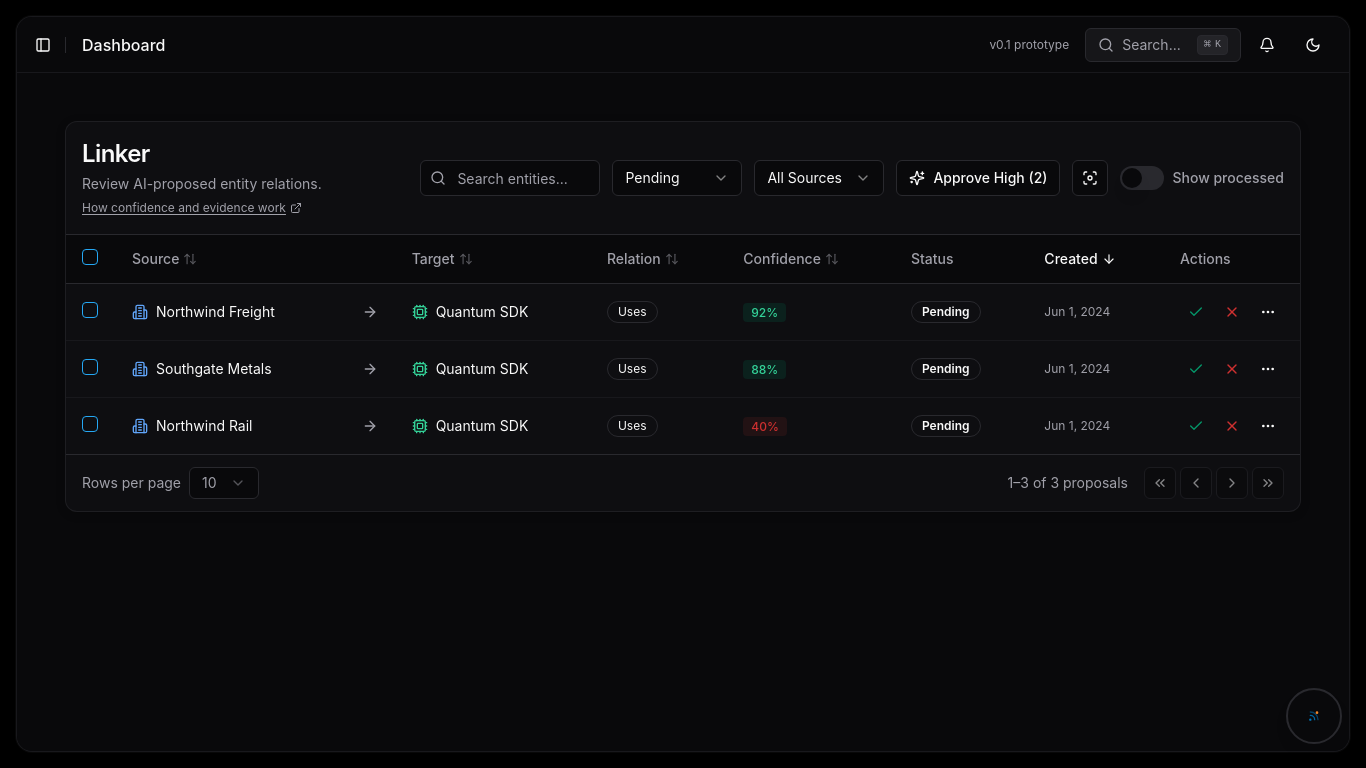
Test case: LinkerTriagePage — Approve High is bounded by the visible scope › states the active scope in the confirmation so it cannot overstate its reach
Expected: the button "Approve High (2)" is shown, [896,160,1060,196]
Type "Northwind" into the field with placeholder "Search entities..." at (510, 178), box [420,160,600,196]
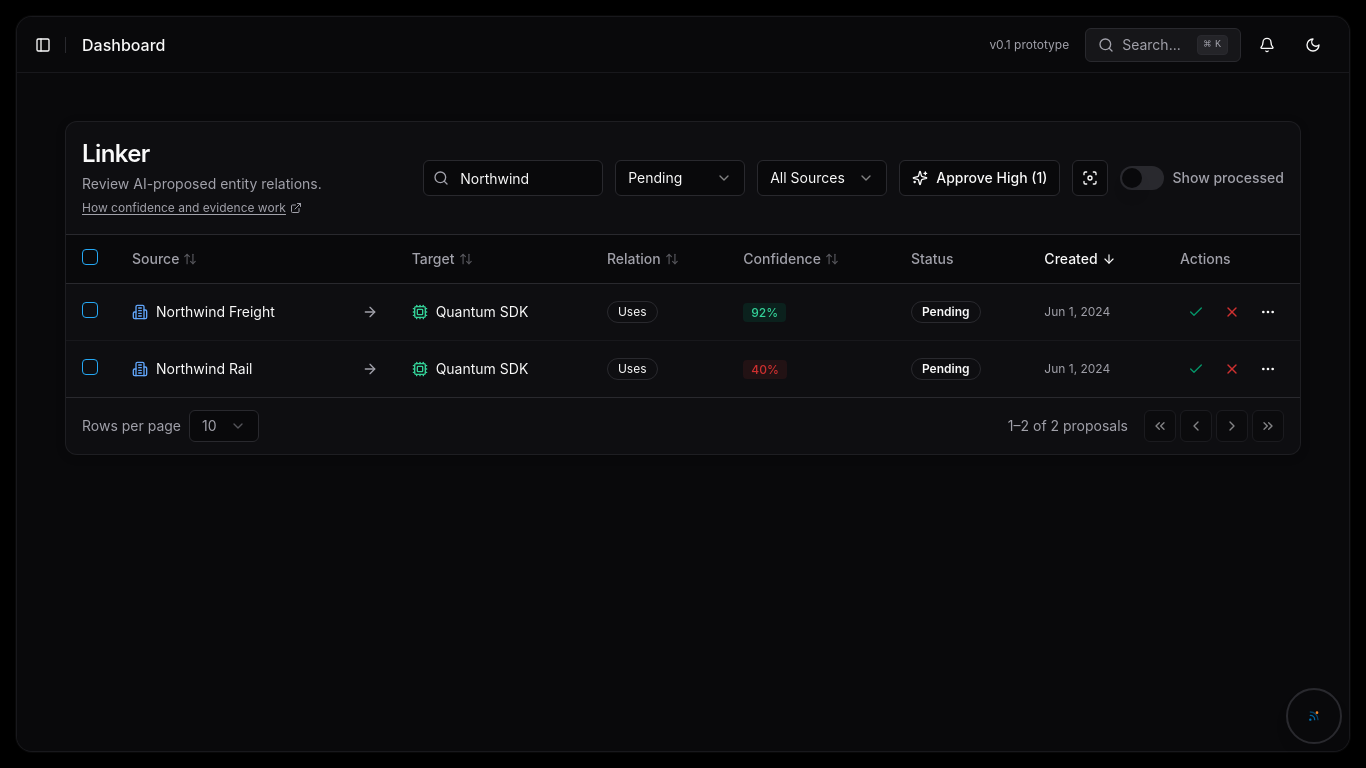
Click the button "Approve High (1)" at (980, 178), box [899,160,1060,196]
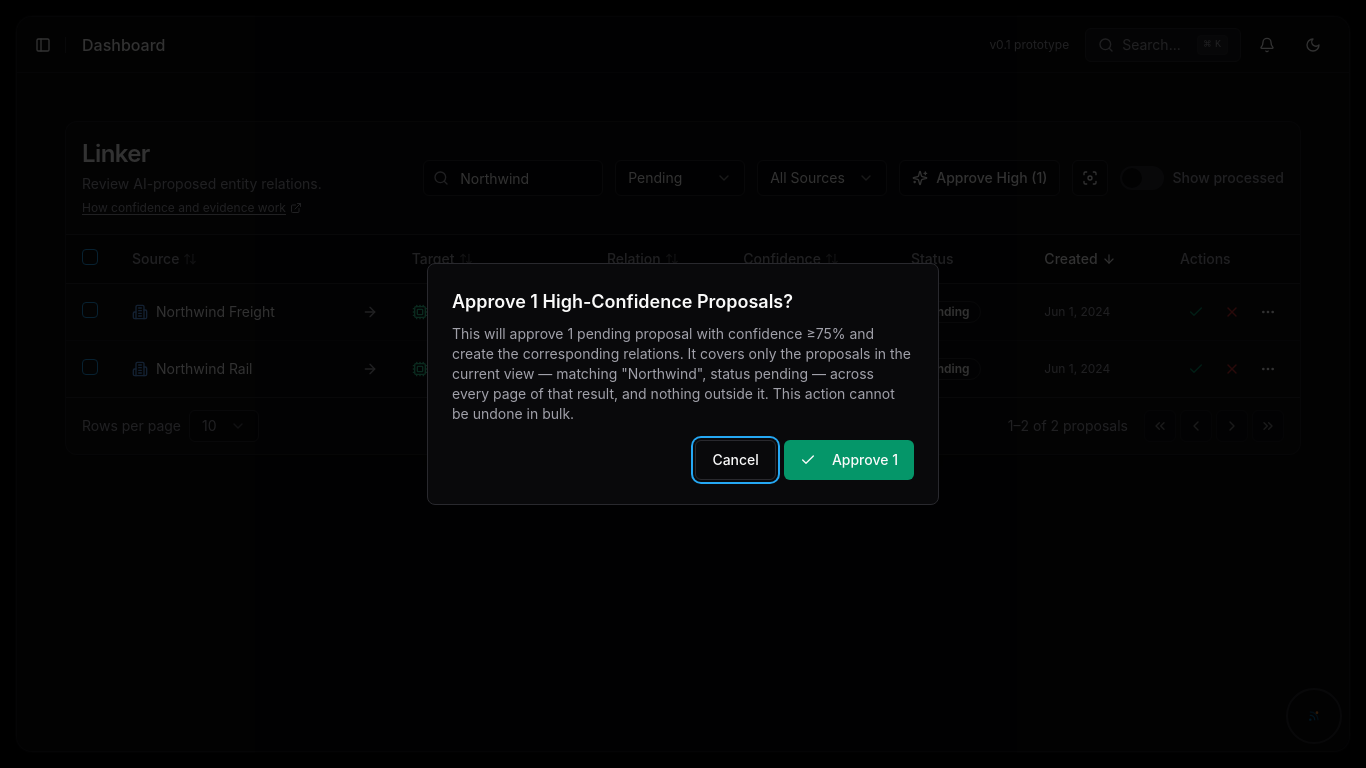
Expected: the dialog shows "matching \"Northwind\"", [556,365,808,382]
